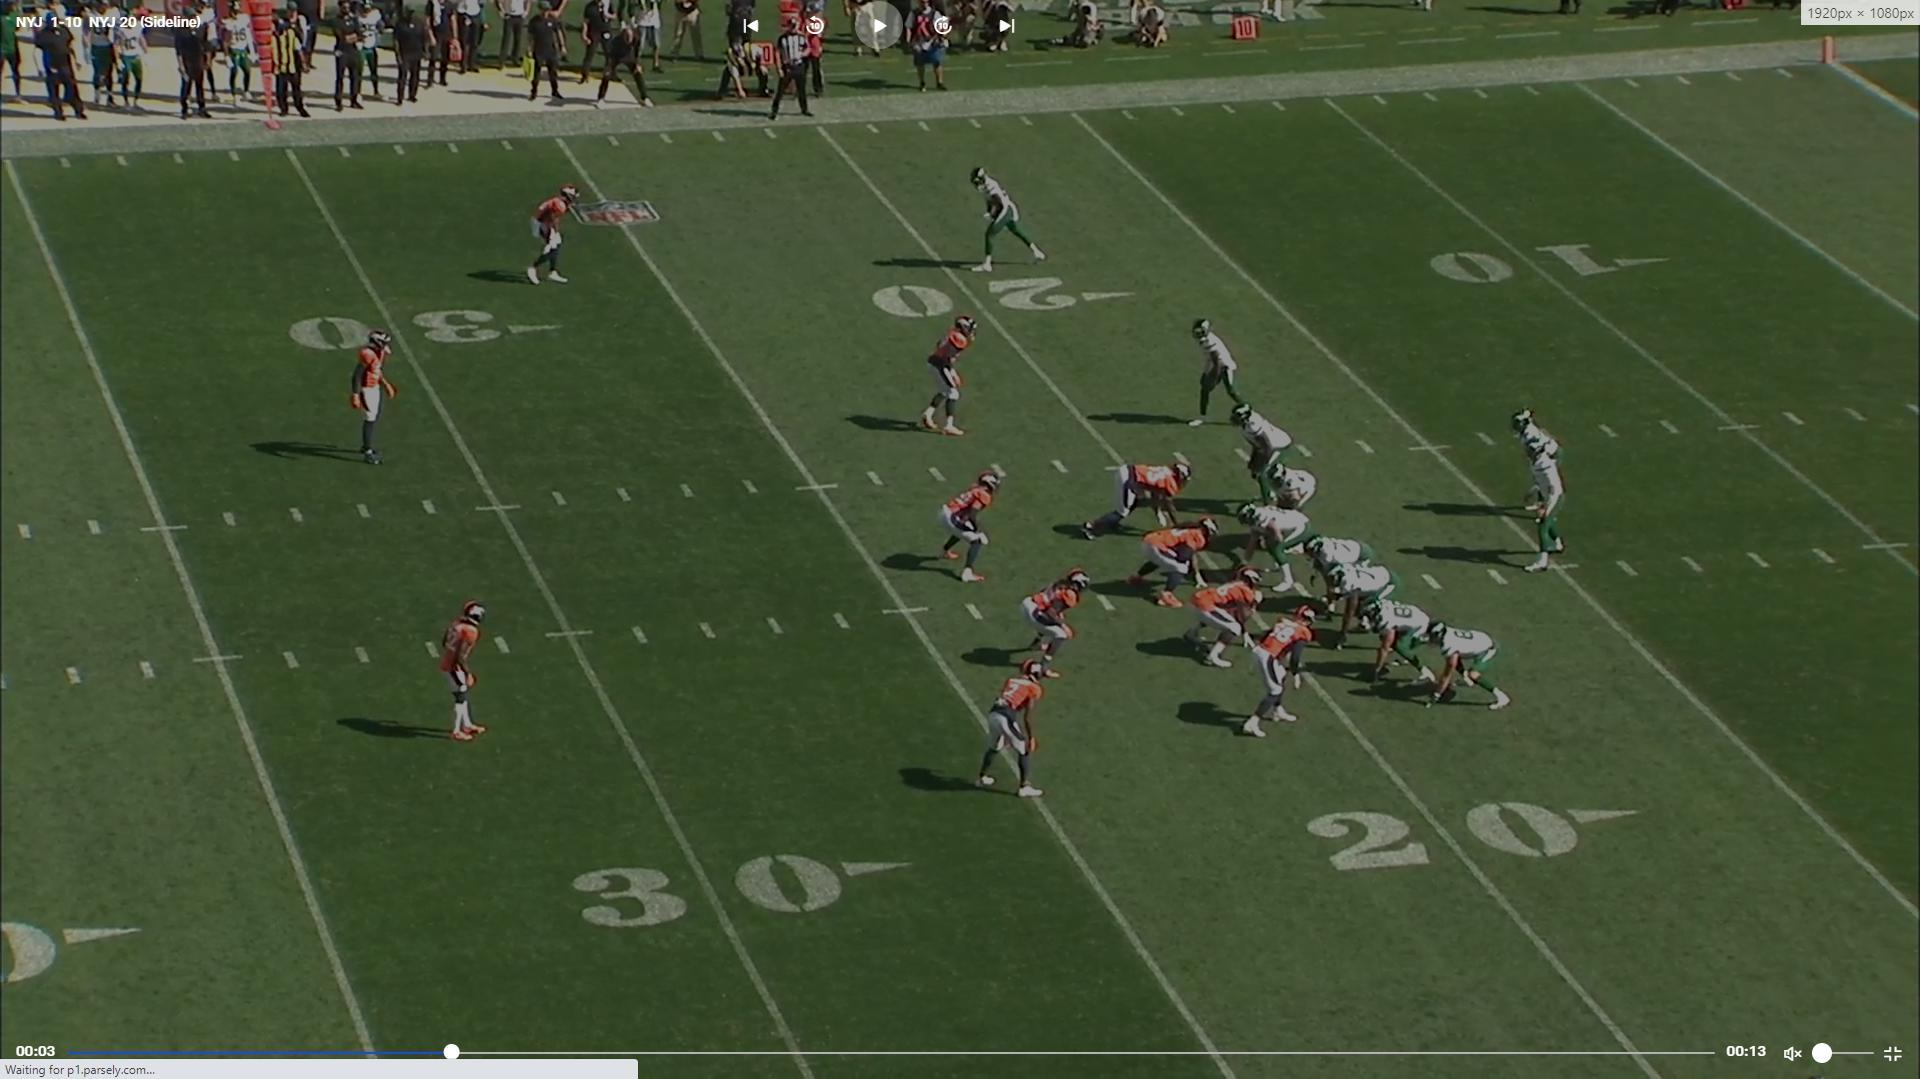player: (977, 652, 1054, 805), (1246, 600, 1318, 740), (436, 590, 497, 746), (969, 163, 1053, 274), (1083, 457, 1198, 537), (1427, 616, 1519, 712), (1118, 525, 1212, 614), (1184, 565, 1263, 670), (344, 327, 399, 477), (940, 467, 1006, 591), (1024, 564, 1091, 682), (916, 311, 975, 445), (1188, 314, 1255, 429), (1524, 435, 1577, 579), (521, 180, 586, 294), (1239, 406, 1311, 507), (1375, 594, 1449, 685), (1323, 560, 1405, 642), (1240, 501, 1317, 587), (1509, 409, 1560, 522), (1307, 530, 1382, 603), (1261, 462, 1325, 514)
ref: (772, 16, 826, 130)
